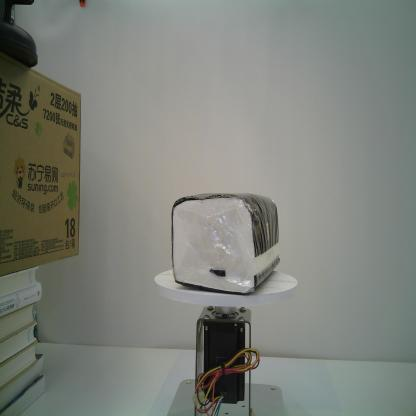Tissue: (170, 190, 281, 296)
